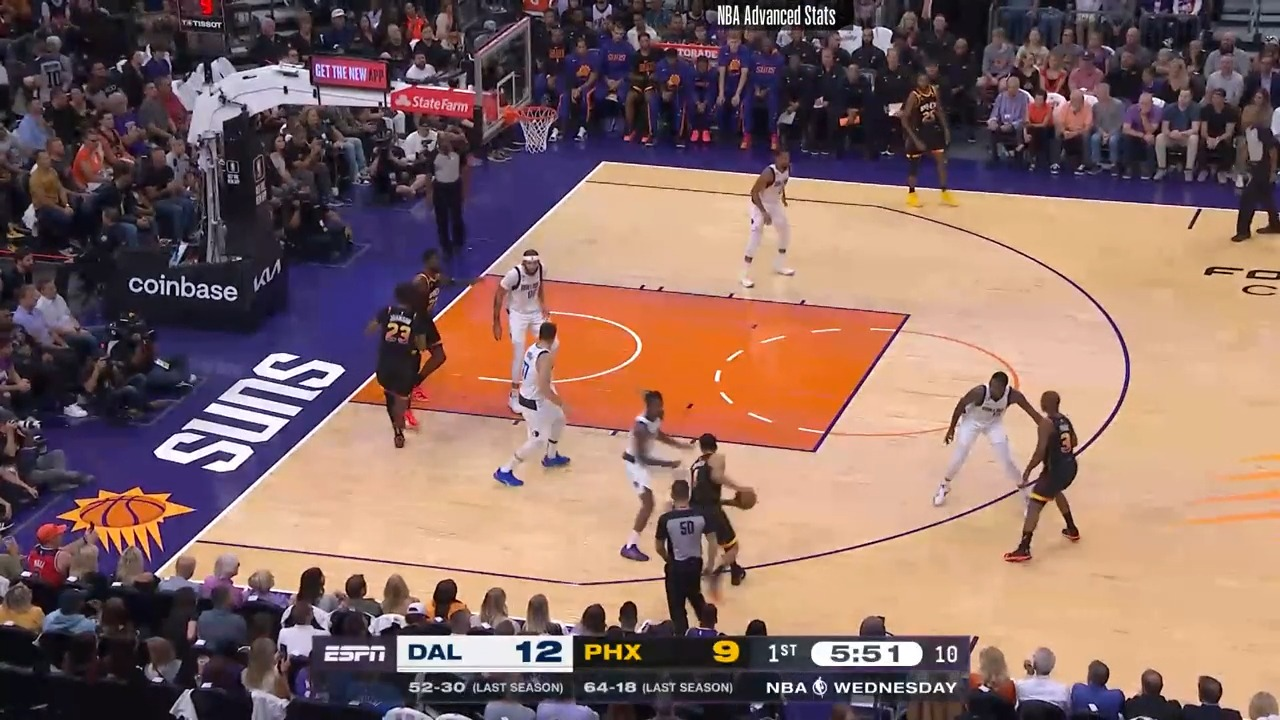net: (503, 94, 561, 157)
player: (931, 366, 1047, 519), (1001, 388, 1086, 567), (493, 227, 565, 427), (403, 249, 484, 425), (493, 322, 577, 491), (621, 387, 698, 565), (682, 432, 755, 587), (730, 147, 801, 297), (895, 70, 965, 210), (369, 288, 424, 456)
referee: (650, 472, 731, 631), (1233, 94, 1280, 245), (425, 137, 469, 257)
